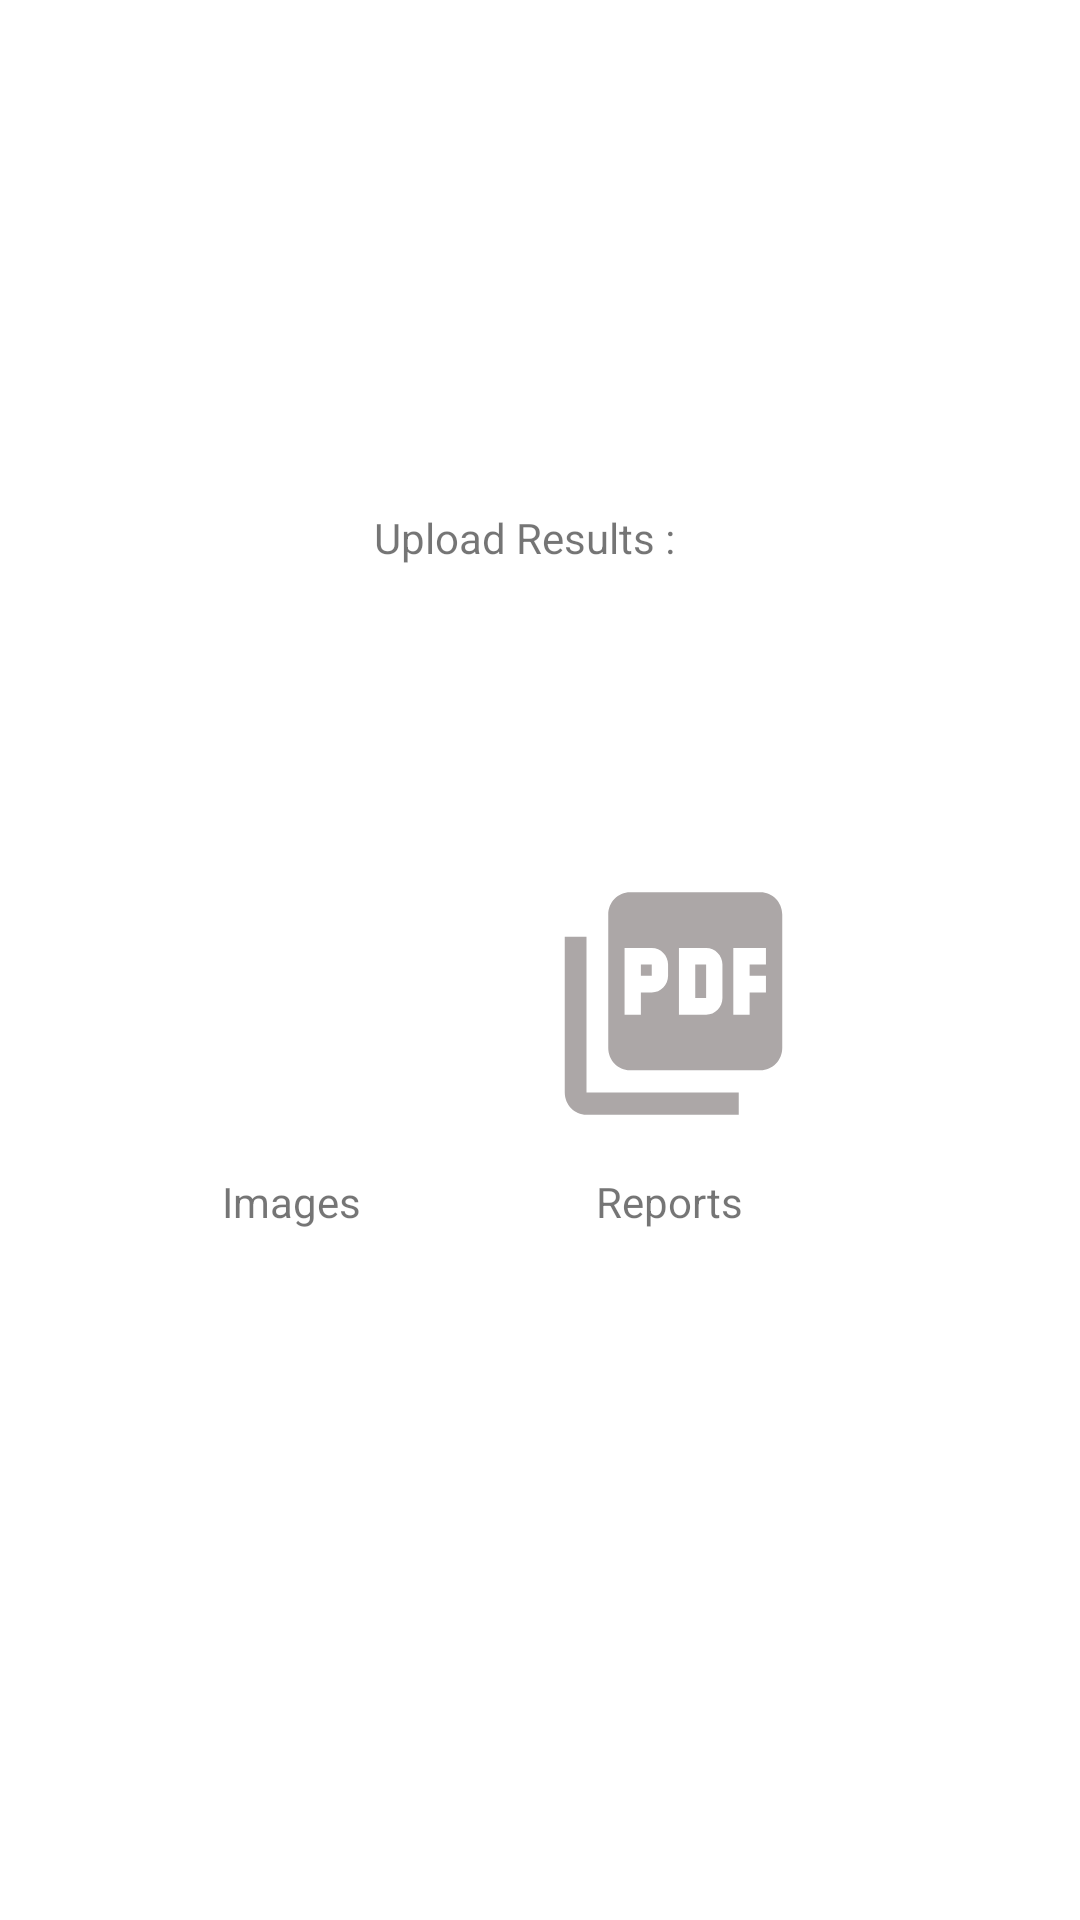

Screen size 1080 x 1920. Icon name, then its center in pixels as (x,y):
picture as pdf: (673,1003)
